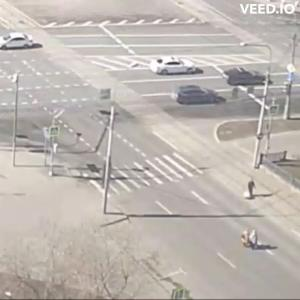car: (177, 86, 224, 107), (152, 58, 203, 77), (227, 68, 270, 88), (2, 34, 37, 51), (1, 36, 12, 51)
